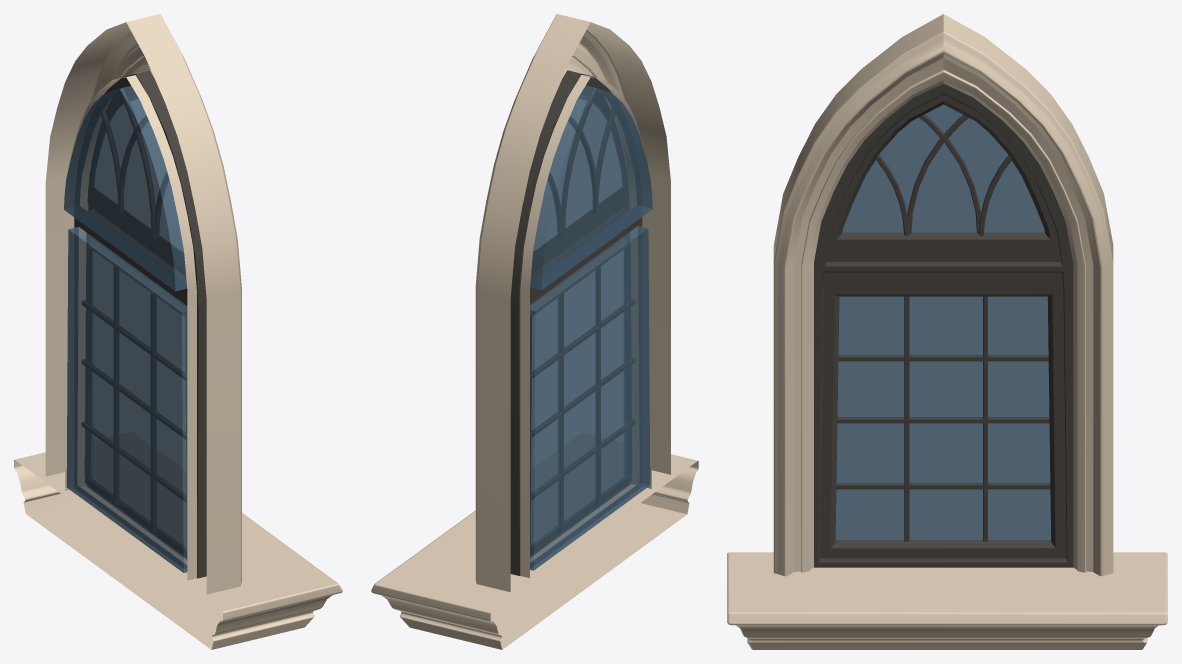
The model's file is window transparent.fbx.
The picture shows the model from 3 angles, left to right: view 1: azimuth 30°, elevation 25°; view 2: azimuth 150°, elevation 25°; view 3: azimuth 270°, elevation 25°; orthographic projection. The views are drawn at different scales.
Visible parts, largest first — view 1: pCube29; view 2: pCube29; view 3: pCube29.
Boxes of the visible parts, x1,y1,x2,y2 form: pCube29: [14, 14, 342, 649]; pCube29: [371, 14, 698, 649]; pCube29: [727, 14, 1167, 649].
Bounding box in the file's own units: 41.86 × 184 × 124.
